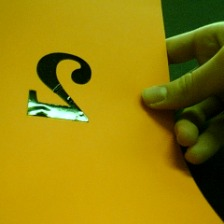orange2: (22, 49, 96, 126)
